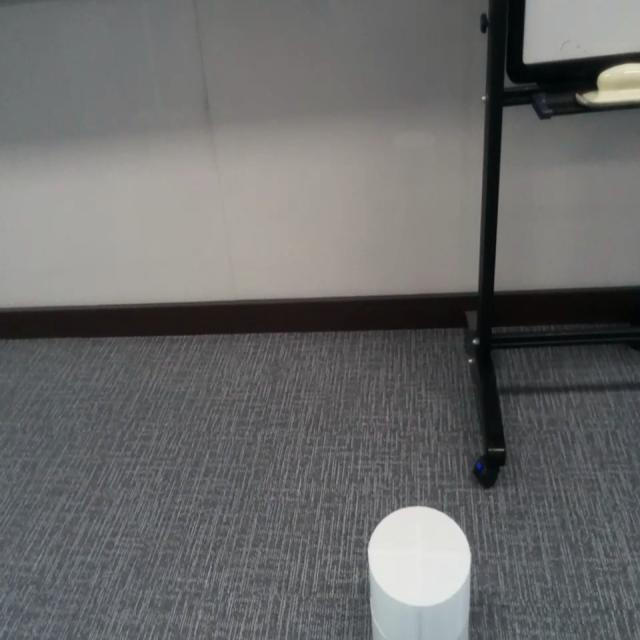cylinder: (367, 504, 472, 638)
